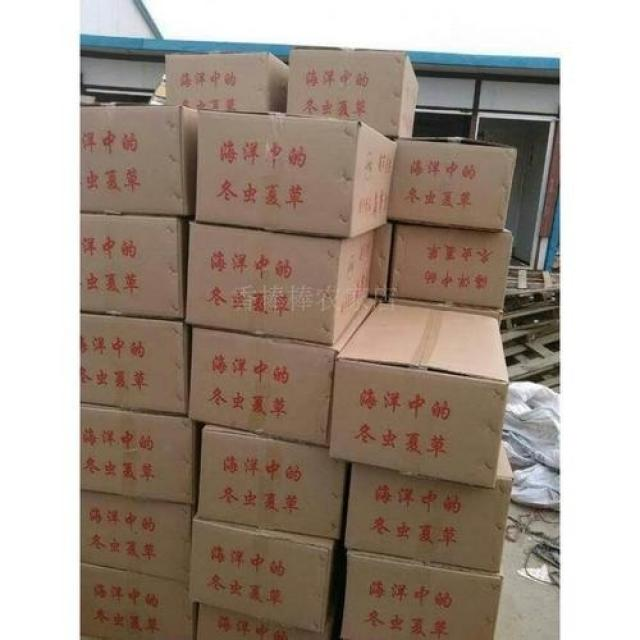box: (328, 298, 510, 489), (186, 293, 380, 447), (192, 110, 398, 237), (186, 218, 375, 345), (342, 435, 513, 572), (198, 423, 345, 540), (189, 518, 333, 634), (340, 547, 501, 637), (79, 104, 201, 216), (77, 209, 192, 319), (389, 138, 520, 234), (81, 401, 196, 504), (288, 48, 420, 136), (80, 309, 187, 415), (79, 488, 193, 585), (389, 223, 511, 307), (82, 560, 198, 638), (163, 51, 293, 116), (195, 594, 324, 637), (372, 220, 392, 302)
